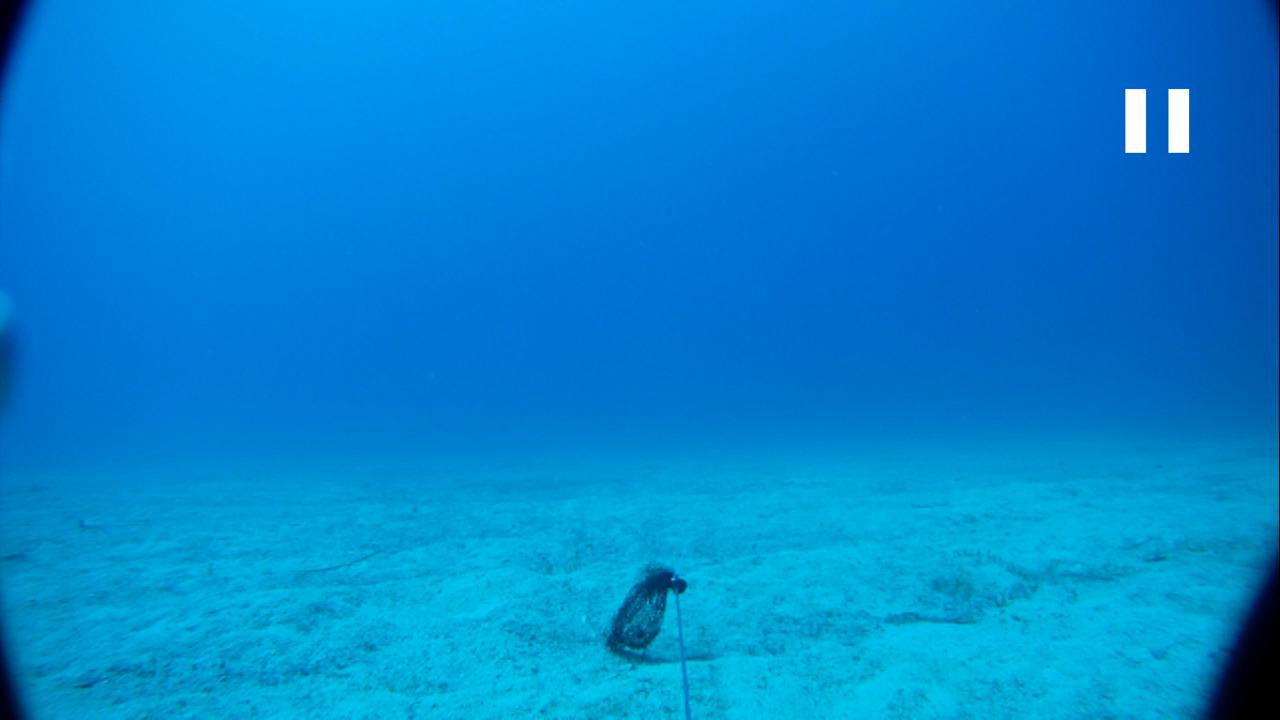dactylopterus: (67, 507, 121, 528)
